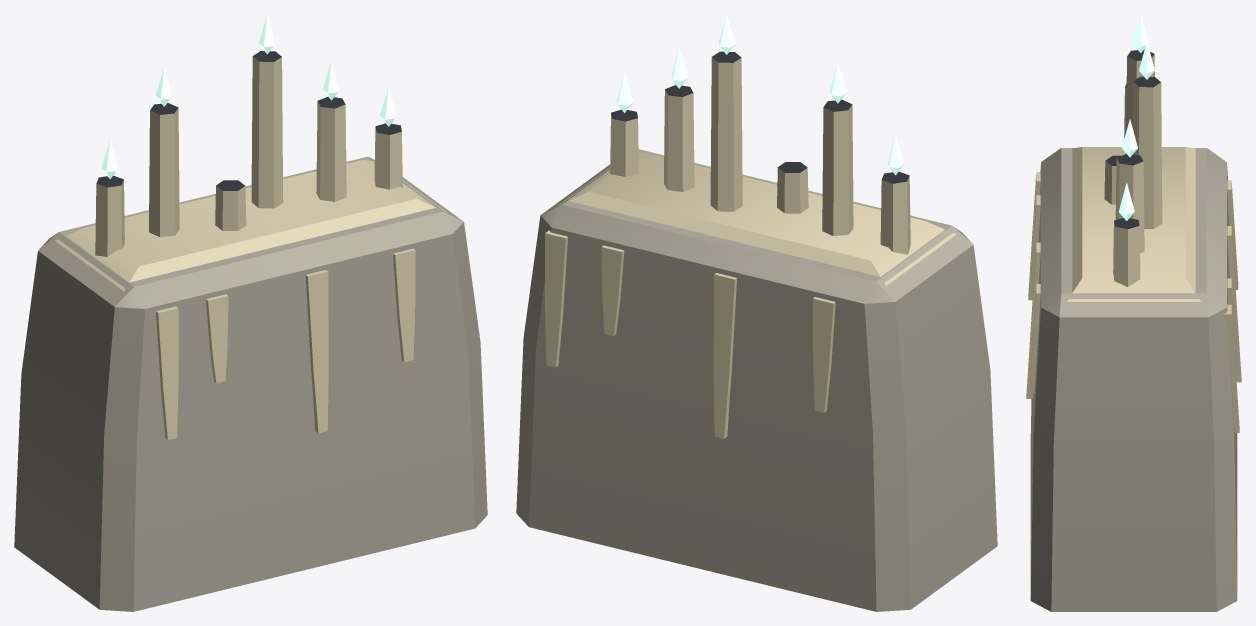
File: CandleStone.fbx
3 renders of one model, left to right at view 1: azimuth 30°, elevation 25°; view 2: azimuth 150°, elevation 25°; view 3: azimuth 270°, elevation 25°, orthographic. The views are drawn at different scales.
Parts seen in each view (by area): view 1: CandleStone; view 2: CandleStone; view 3: CandleStone.
Boxes of the visible parts, left/top/right/bottom form: CandleStone: left=14, top=14, right=487, bottom=611; CandleStone: left=516, top=14, right=997, bottom=611; CandleStone: left=1026, top=14, right=1241, bottom=611.
Size of the model in its own units: 0.84 by 1.05 by 0.4166.
